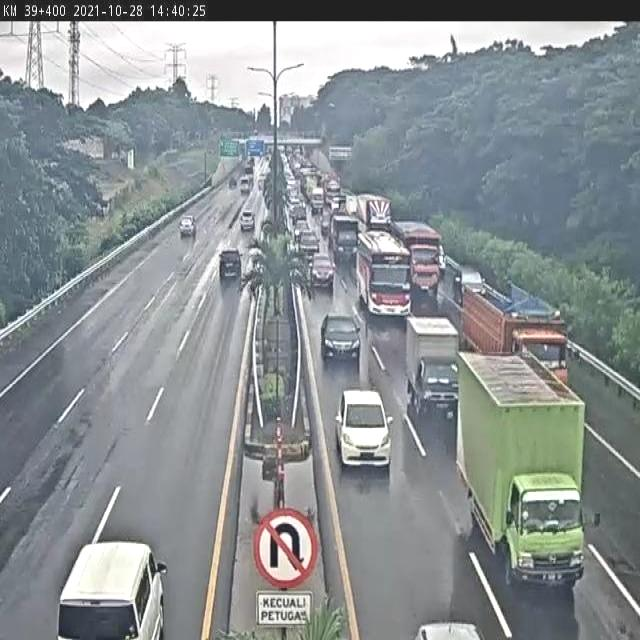Car: (326, 380, 401, 478), (412, 620, 488, 640), (218, 248, 242, 279), (179, 215, 196, 238), (239, 210, 255, 230)
Truck: (457, 351, 585, 588), (461, 282, 566, 394), (57, 542, 166, 638), (406, 314, 460, 422), (355, 229, 412, 322), (392, 220, 443, 309), (320, 312, 361, 365), (260, 437, 310, 480), (331, 212, 360, 262), (355, 193, 393, 231), (287, 246, 313, 292), (310, 254, 336, 291), (458, 265, 483, 302), (298, 230, 320, 268), (272, 462, 286, 511), (384, 220, 407, 246), (394, 221, 426, 239), (240, 266, 261, 293), (309, 149, 331, 174), (262, 452, 279, 481), (325, 179, 341, 206), (328, 146, 352, 163), (290, 202, 306, 226), (300, 165, 316, 188), (96, 195, 112, 218), (310, 187, 324, 213), (247, 247, 264, 268), (331, 192, 347, 213), (344, 192, 357, 216), (285, 178, 297, 203), (352, 304, 362, 334), (288, 233, 301, 256), (300, 177, 311, 204), (287, 191, 301, 210), (261, 174, 271, 200), (254, 339, 262, 371), (260, 219, 270, 244), (321, 210, 331, 235), (280, 111, 291, 132), (253, 260, 265, 278), (234, 139, 246, 156), (292, 226, 302, 245), (292, 160, 302, 178), (240, 176, 250, 194), (280, 152, 289, 172), (336, 244, 345, 264), (218, 256, 226, 278), (268, 152, 278, 169), (237, 273, 245, 294), (278, 145, 288, 161), (261, 150, 271, 166), (324, 192, 333, 209), (163, 148, 178, 158), (244, 140, 252, 158), (244, 162, 254, 176), (128, 149, 134, 171), (320, 132, 329, 146), (286, 146, 294, 160), (295, 146, 303, 160), (119, 151, 127, 165), (266, 144, 275, 156), (204, 176, 213, 188), (218, 249, 227, 261), (218, 141, 225, 155), (258, 178, 265, 191), (89, 152, 100, 160), (248, 154, 255, 166), (243, 154, 250, 166), (229, 177, 236, 188), (111, 151, 119, 160), (553, 310, 561, 319), (252, 129, 258, 137), (276, 416, 282, 424)
